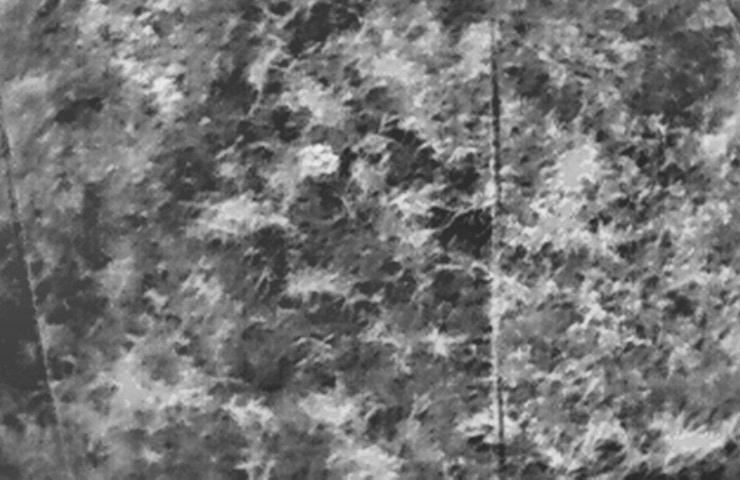landmines: (294, 138, 346, 182)
